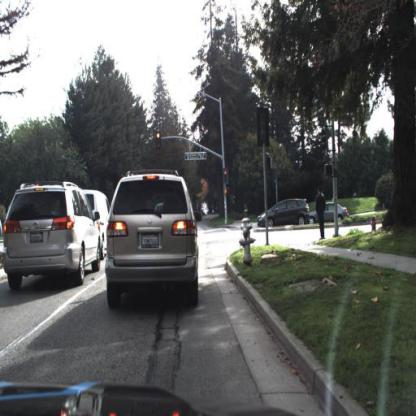car: (104, 171, 203, 313), (2, 180, 101, 293), (255, 195, 311, 231), (87, 186, 113, 254), (308, 199, 350, 224)
pedestrian: (315, 187, 327, 239)
trafficLight-Red: (223, 168, 230, 187), (156, 131, 162, 152)
